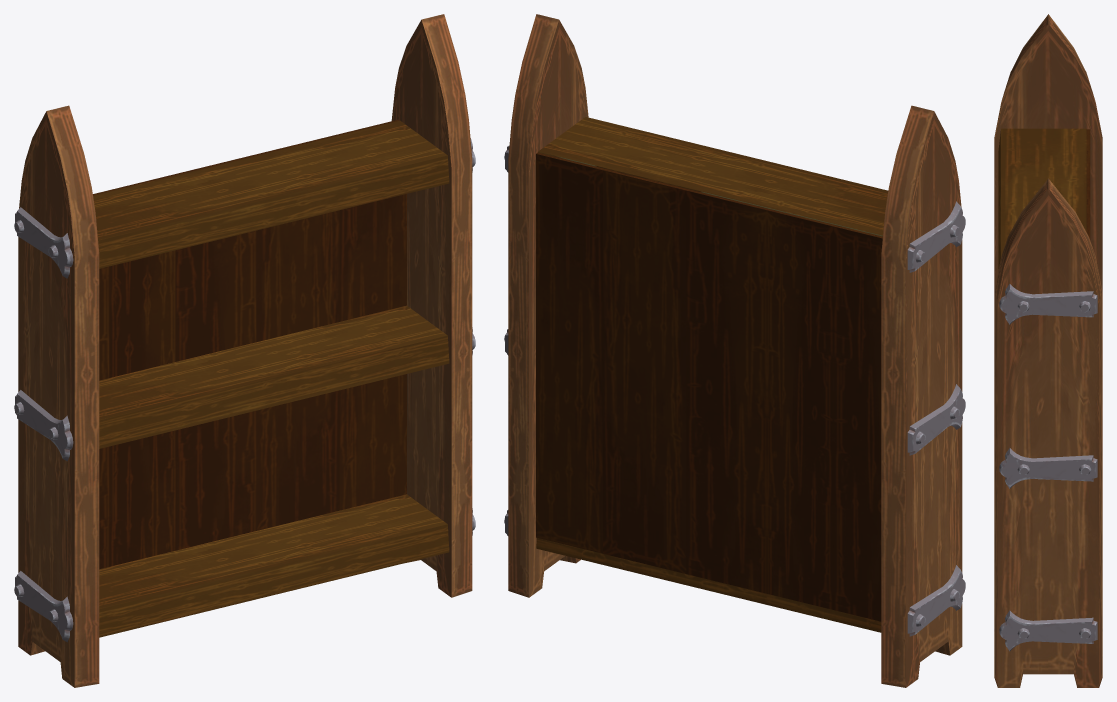
File: Shelf_Arch.gltf
3 views of the same model, side by side, from view 1: azimuth 30°, elevation 25°; view 2: azimuth 150°, elevation 25°; view 3: azimuth 270°, elevation 25° (orthographic). The views are drawn at different scales.
Visible parts, largest first — view 1: Shelf_Arch; view 2: Shelf_Arch; view 3: Shelf_Arch.
Part boxes in pixels (x1,y1,x2,y2): Shelf_Arch: [14, 14, 475, 687]; Shelf_Arch: [504, 14, 965, 687]; Shelf_Arch: [994, 14, 1102, 687].
Bounding box in the file's own units: 1.25 × 1.59 × 0.3116.
2 materials, 2 textured.
